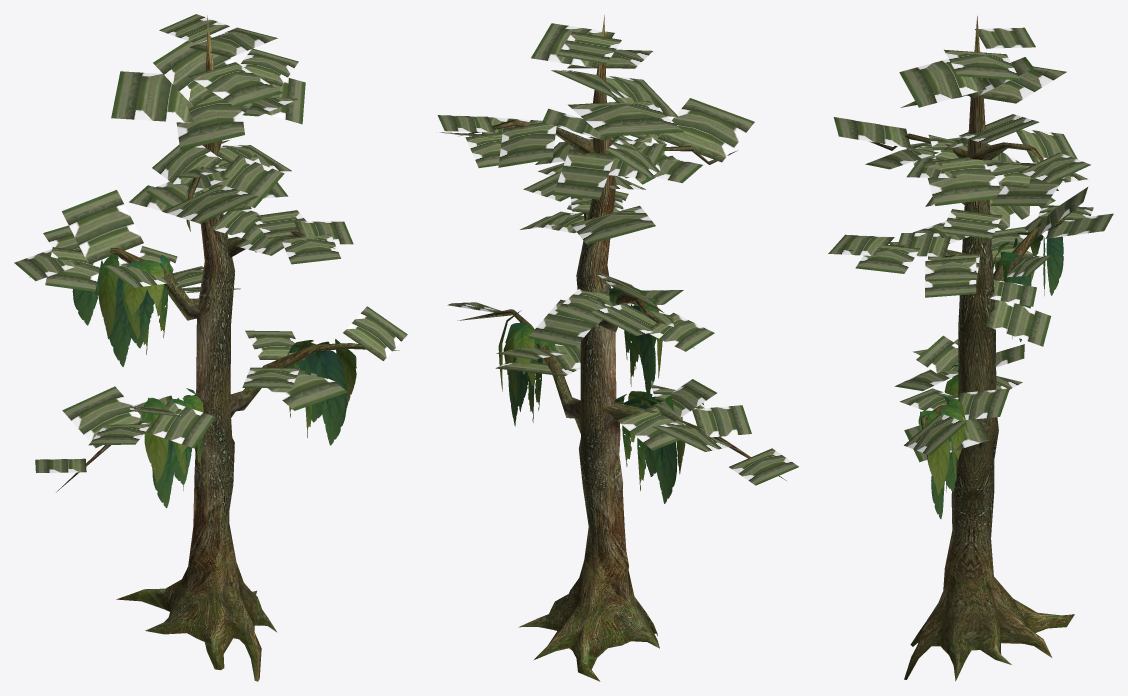
Rendered from S_Tree_Green026.FBX.
The picture shows the model from 3 angles, left to right: view 1: azimuth 30°, elevation 25°; view 2: azimuth 150°, elevation 25°; view 3: azimuth 270°, elevation 25°; orthographic projection. The views are drawn at different scales.
Parts seen in each view (by area): view 1: S_Tree_Green026_2, S_Tree_Green026_1, S_Tree_Green026_3; view 2: S_Tree_Green026_2, S_Tree_Green026_1, S_Tree_Green026_3; view 3: S_Tree_Green026_2, S_Tree_Green026_1, S_Tree_Green026_3.
Boxes of the visible parts, x1,y1,x2,y2 form: S_Tree_Green026_2: (14, 14, 407, 472); S_Tree_Green026_1: (29, 15, 399, 681); S_Tree_Green026_3: (72, 254, 356, 508); S_Tree_Green026_2: (437, 23, 798, 485); S_Tree_Green026_1: (457, 15, 786, 681); S_Tree_Green026_3: (498, 288, 685, 503); S_Tree_Green026_2: (828, 27, 1113, 462); S_Tree_Green026_1: (843, 16, 1074, 681); S_Tree_Green026_3: (918, 226, 1063, 518).
Size of the model in its own units: 909 by 1560 by 614.
